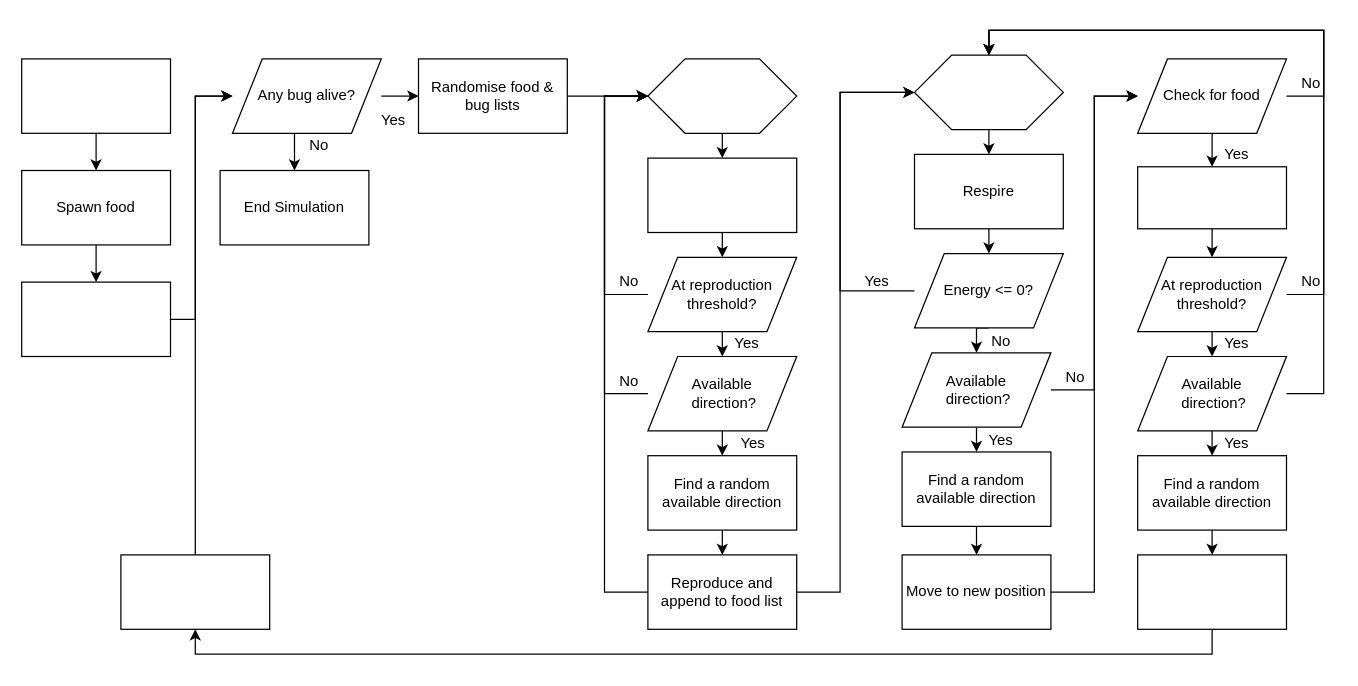
The diagram is 1358 pixels wide and 686 high, and some of its shapes have lost their labels. The shapes that lost their labels are listed below. From the top down, each one's box as (x1, y1, x2, y2) in pixels, then its label:
(20, 58, 170, 133): Generate new world
(647, 58, 797, 133): For each food
(913, 54, 1063, 130): For each bug
(647, 157, 797, 232): Grow if not reached max energy
(1136, 166, 1286, 229): Eat
(20, 281, 170, 356): Spawn bugs
(120, 554, 270, 629): World Time +1
(1136, 554, 1286, 629): Reproduce and append to bug list
